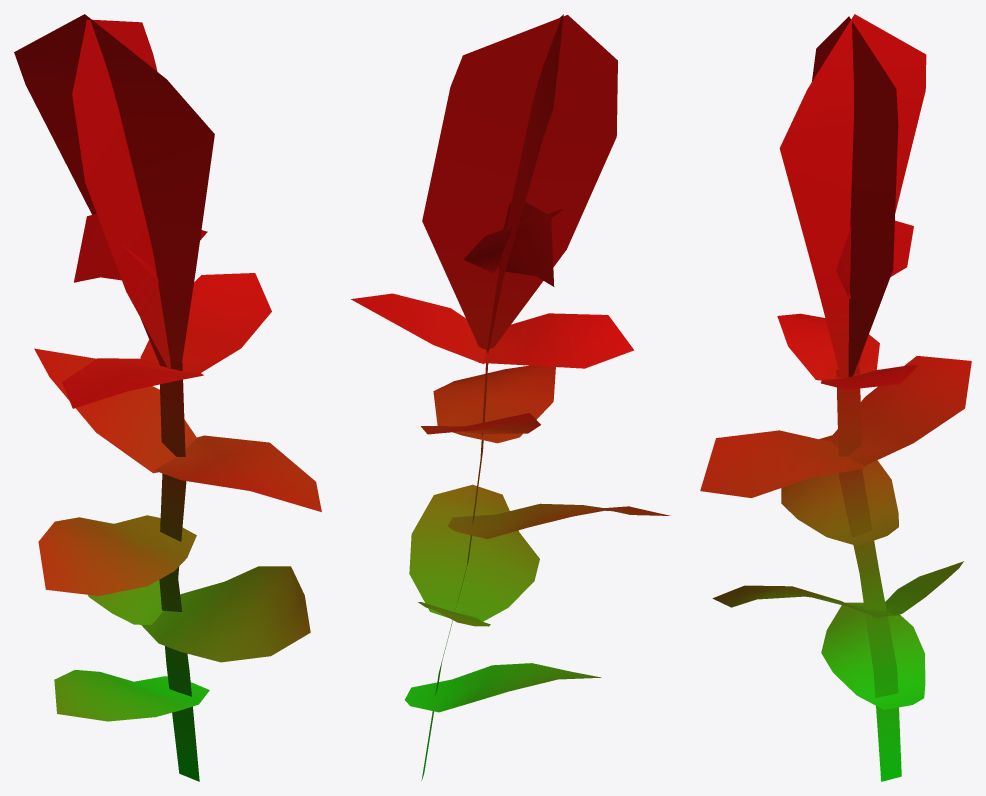
File: Rubber Bush_LOD5_Var6_xffhfekia.fbx
The picture shows the model from 3 angles, left to right: view 1: azimuth 30°, elevation 25°; view 2: azimuth 150°, elevation 25°; view 3: azimuth 270°, elevation 25°; orthographic projection. The views are drawn at different scales.
Visible parts, largest first — view 1: _5qpw_Var6_LOD5; view 2: _5qpw_Var6_LOD5; view 3: _5qpw_Var6_LOD5.
Boxes of the visible parts, x1,y1,x2,y2 form: _5qpw_Var6_LOD5: (14, 14, 321, 781); _5qpw_Var6_LOD5: (351, 14, 670, 780); _5qpw_Var6_LOD5: (700, 14, 971, 781).
Bounding box in the file's own units: 23.61 × 67.3 × 23.27.
